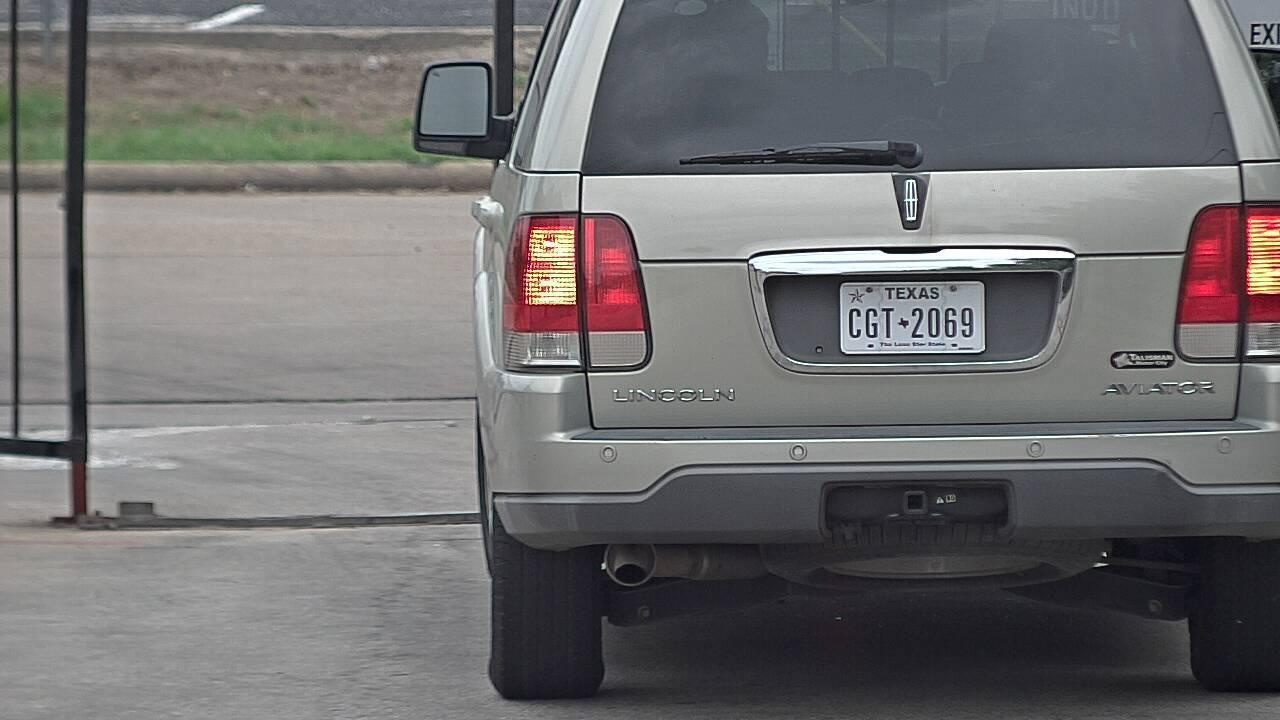placa de veiculo: (833, 263, 996, 371)
